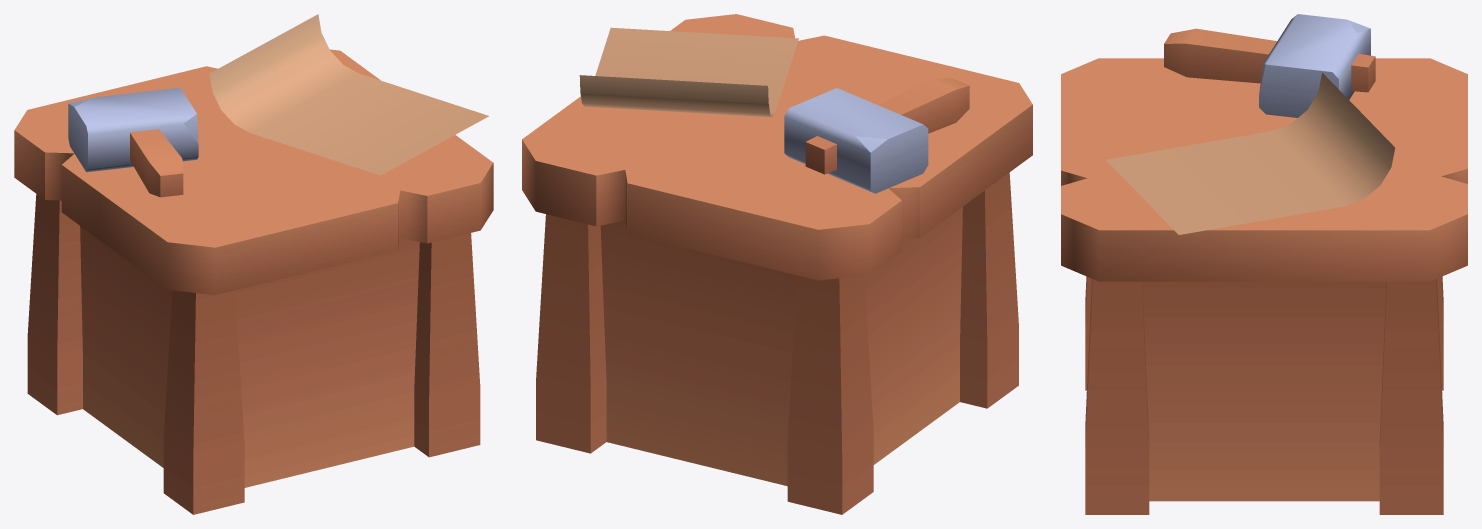
The model's file is k-survival-workbench.glb.
3 views of the same model, side by side, from view 1: azimuth 30°, elevation 25°; view 2: azimuth 150°, elevation 25°; view 3: azimuth 270°, elevation 25° (orthographic). The views are drawn at different scales.
Parts seen in each view (by area): view 1: workbench, paper, hammer; view 2: workbench, paper, hammer; view 3: workbench, paper, hammer.
Boxes of the visible parts, left/top/right/bottom form: workbench: left=14, top=49, right=493, bottom=514; paper: left=209, top=14, right=488, bottom=175; hammer: left=68, top=87, right=198, bottom=197; workbench: left=522, top=14, right=1032, bottom=514; paper: left=579, top=27, right=798, bottom=117; hammer: left=784, top=78, right=969, bottom=193; workbench: left=1061, top=58, right=1467, bottom=514; paper: left=1106, top=72, right=1394, bottom=234; hammer: left=1164, top=14, right=1375, bottom=117.
Size of the model in its own units: 0.3257 by 0.2866 by 0.2957.
Materials: 1 (1 with a texture image).
